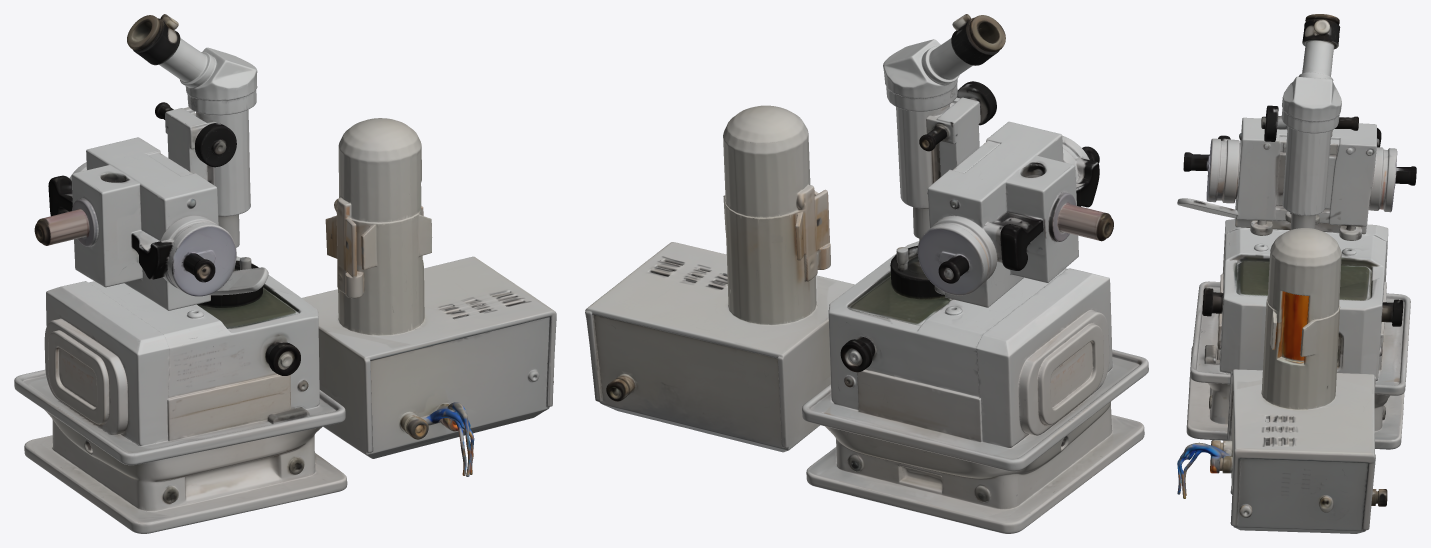
Rendered from 牛顿环仪.glb.
The picture shows the model from 3 angles, left to right: view 1: azimuth 30°, elevation 25°; view 2: azimuth 150°, elevation 25°; view 3: azimuth 270°, elevation 25°; orthographic projection. The views are drawn at different scales.
Parts seen in each view (by area): view 1: texture_pbr_v128; view 2: texture_pbr_v128; view 3: texture_pbr_v128.
Part boxes in pixels (x1=…): texture_pbr_v128: x1=14, y1=14, x2=556, y2=533; texture_pbr_v128: x1=585, y1=14, x2=1148, y2=533; texture_pbr_v128: x1=1177, y1=14, x2=1416, y2=533.
Size of the model in its own units: 0.6302 by 0.5791 by 0.3242.
1 material, 1 textured.
